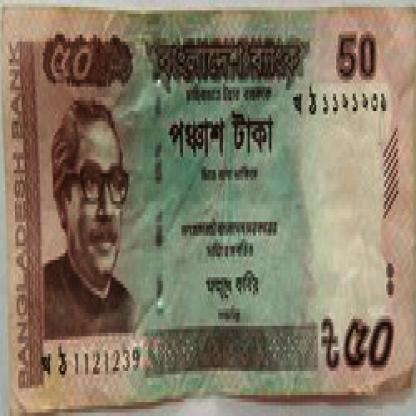Fifty taka: (334, 302, 400, 388), (38, 38, 103, 94)
